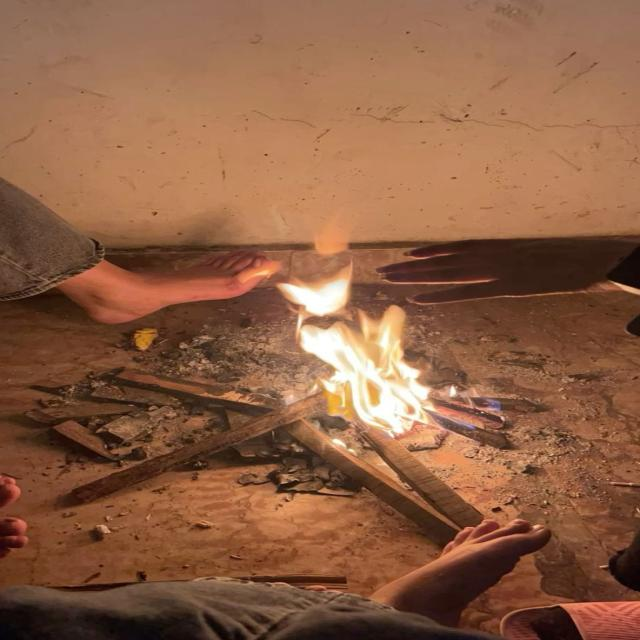fire: (276, 262, 436, 438)
